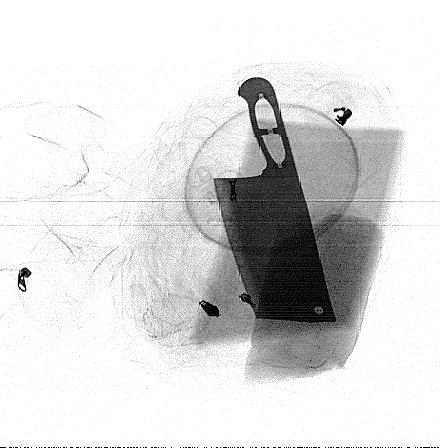Knife: (211, 76, 338, 323)
